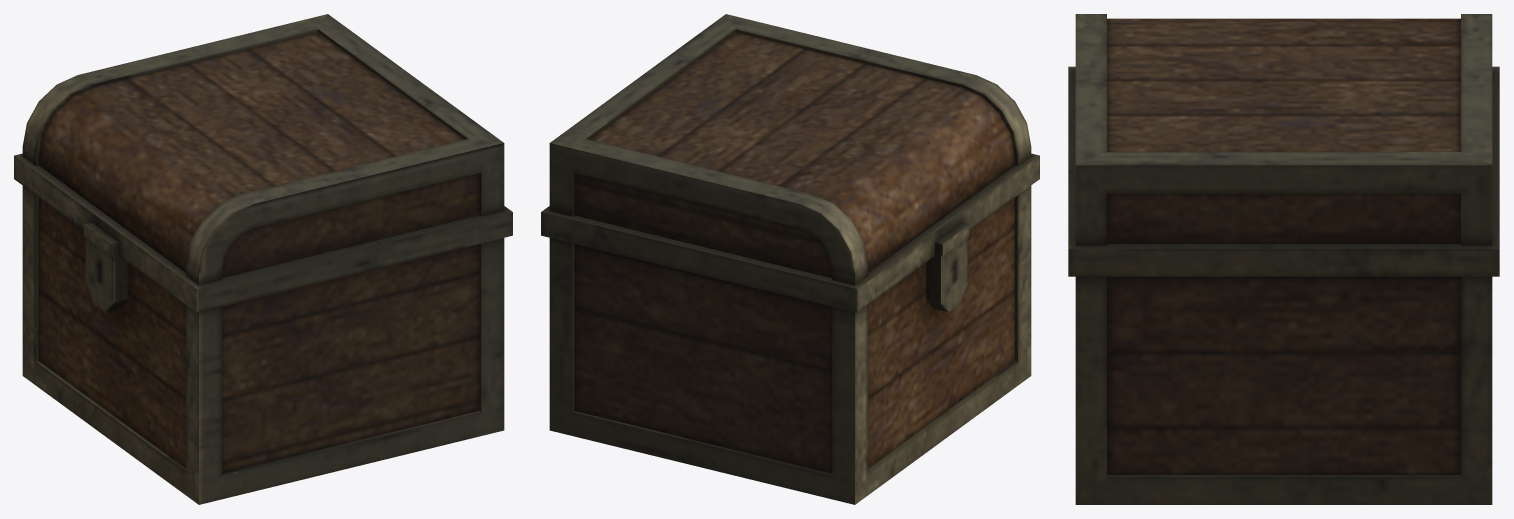
The model's file is Relic_Greed01.obj.
3 views of the same model, side by side, from view 1: azimuth 30°, elevation 25°; view 2: azimuth 150°, elevation 25°; view 3: azimuth 270°, elevation 25° (orthographic). The views are drawn at different scales.
Visible parts, largest first — view 1: Relic_Greed01 Fix; view 2: Relic_Greed01 Fix; view 3: Relic_Greed01 Fix.
Part boxes in pixels (bbox=[...]): Relic_Greed01 Fix: bbox=[14, 14, 512, 504]; Relic_Greed01 Fix: bbox=[541, 14, 1039, 504]; Relic_Greed01 Fix: bbox=[1068, 14, 1499, 504].
Bounding box in the file's own units: 21.23 × 18 × 20.72.
Materials: 1 (1 with a texture image).
